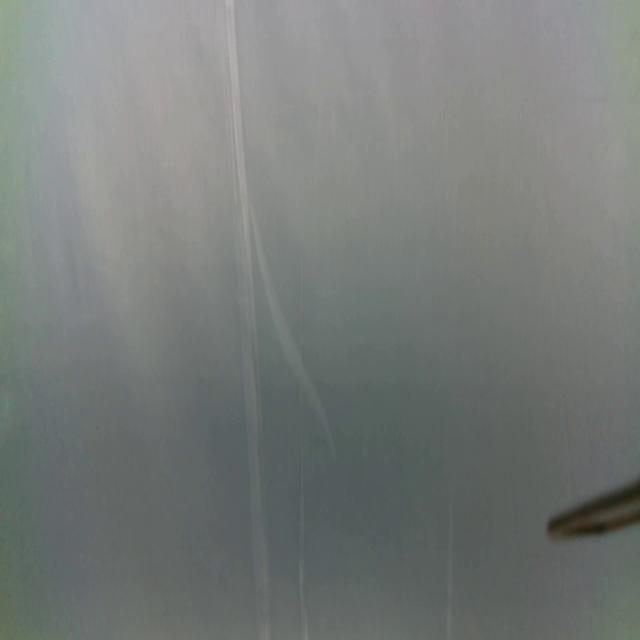crease: (224, 0, 269, 636), (252, 204, 336, 450), (296, 470, 309, 640), (444, 499, 456, 640)
